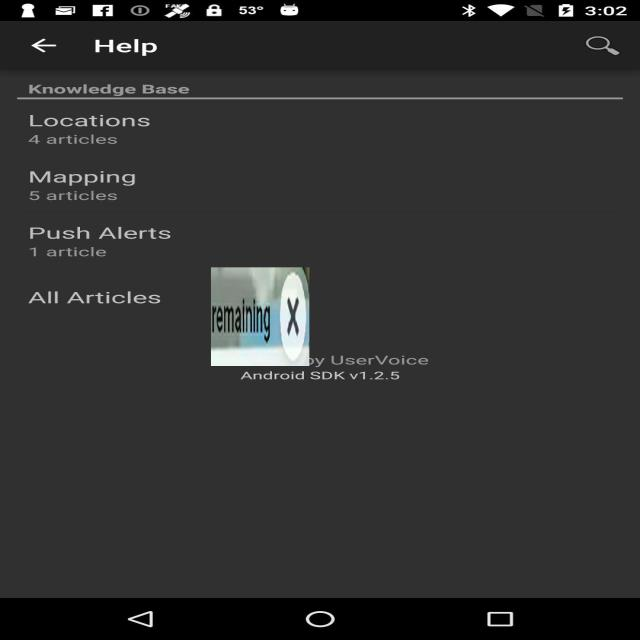misdirection: (211, 267, 309, 366)
